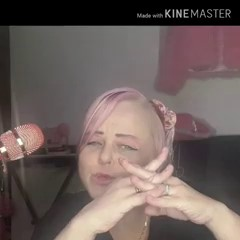W: (74, 150, 211, 232)
